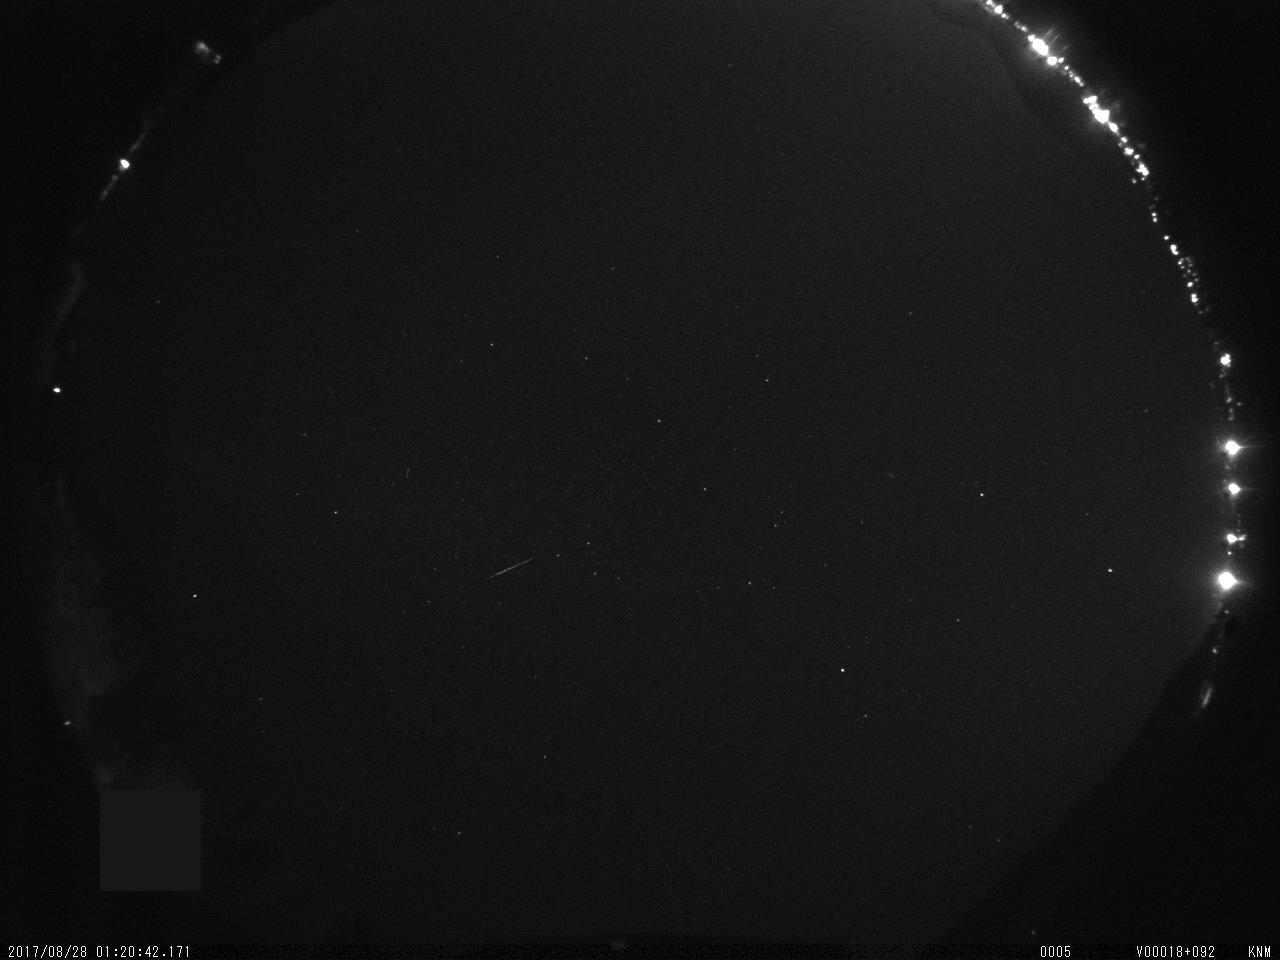meteor: (482, 546, 539, 584)
